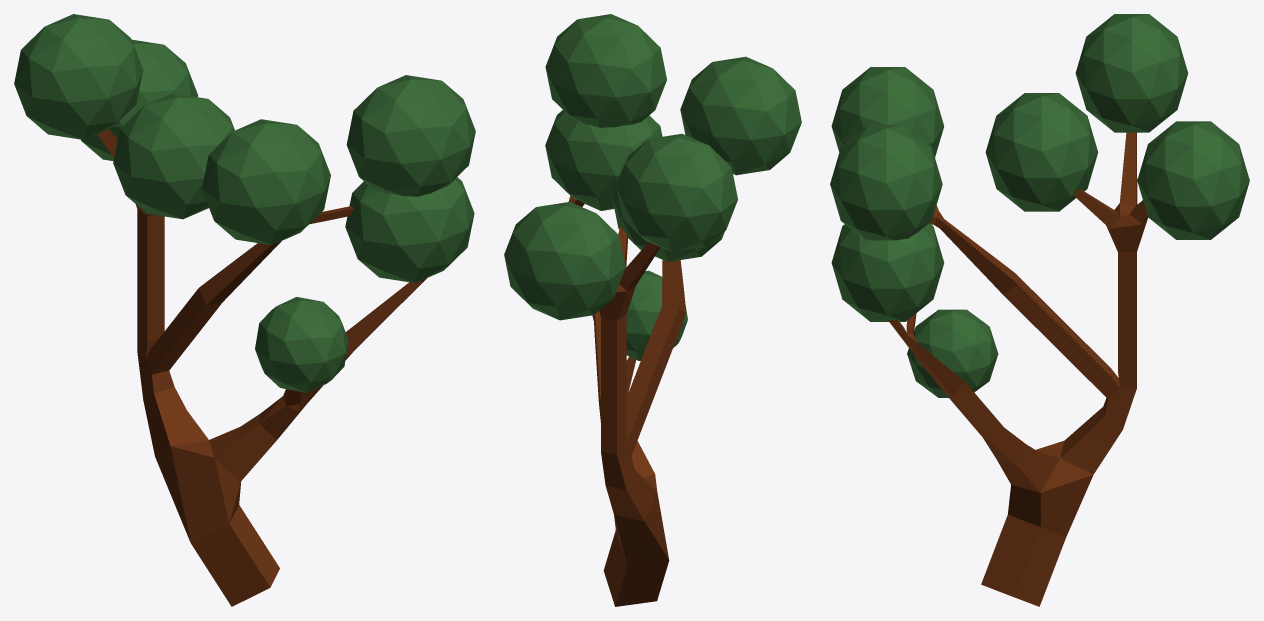
The model's file is Tree01.fbx.
3 renders of one model, left to right at view 1: azimuth 30°, elevation 25°; view 2: azimuth 150°, elevation 25°; view 3: azimuth 270°, elevation 25°, orthographic. The views are drawn at different scales.
Visible parts, largest first — view 1: Trunk, Icosphere.004, Icosphere.002, Icosphere.001, Icosphere.005, Icosphere, Icosphere.003, Icosphere.006; view 2: Trunk, Icosphere.004, Icosphere.006, Icosphere.001, Icosphere.002, Icosphere, Icosphere.003, Icosphere.005; view 3: Trunk, Icosphere.004, Icosphere.006, Icosphere.005, Icosphere.001, Icosphere, Icosphere.002, Icosphere.003.
Part boxes in pixels (x1,y1,x2,y2): Trunk: (97, 129, 426, 606); Icosphere.004: (14, 14, 143, 139); Icosphere.002: (202, 119, 330, 245); Icosphere.001: (346, 75, 475, 196); Icosphere.005: (113, 93, 234, 219); Icosphere: (345, 177, 474, 282); Icosphere.003: (255, 297, 348, 392); Icosphere.006: (81, 39, 198, 160); Trunk: (568, 196, 686, 606); Icosphere.004: (616, 133, 737, 252); Icosphere.006: (504, 202, 625, 320); Icosphere.001: (545, 14, 666, 127); Icosphere.002: (680, 56, 801, 175); Icosphere: (545, 110, 662, 210); Icosphere.003: (600, 270, 687, 360); Icosphere.005: (612, 165, 724, 261); Trunk: (888, 132, 1148, 606); Icosphere.004: (1075, 14, 1188, 132); Icosphere.006: (1137, 121, 1249, 239); Icosphere.005: (985, 93, 1098, 211); Icosphere.001: (830, 125, 942, 240); Icosphere: (831, 223, 944, 321); Icosphere.002: (831, 67, 944, 156); Icosphere.003: (907, 309, 998, 397).
Bounding box in the file's own units: 119 × 202 × 143.
